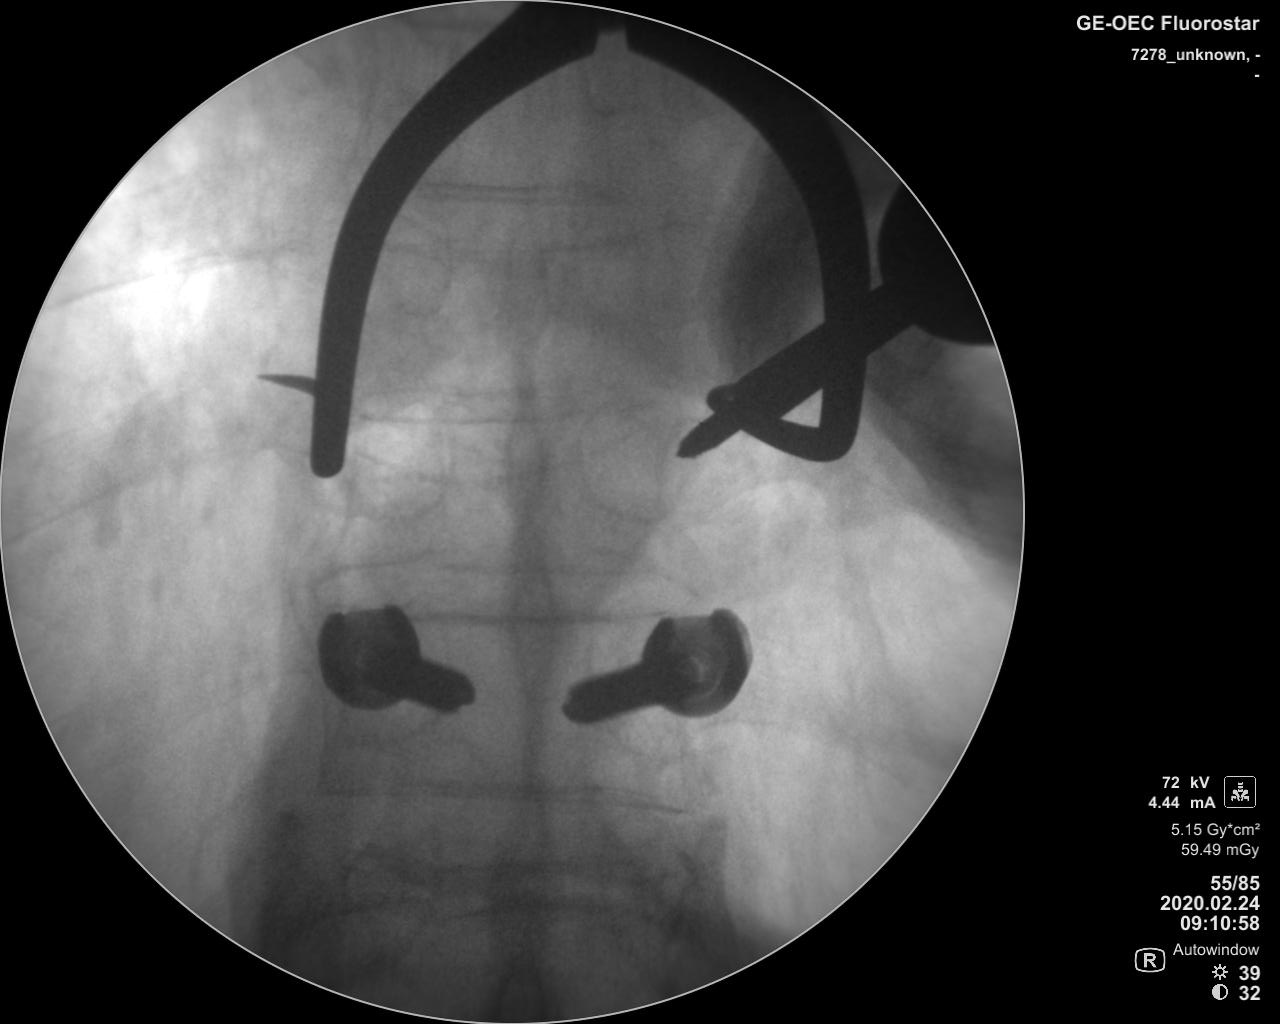eyes: (353, 398, 448, 527), (577, 404, 670, 527), (380, 225, 452, 321)
line: (330, 769, 673, 813), (402, 234, 660, 264), (410, 600, 653, 630), (363, 401, 611, 430), (426, 178, 605, 211), (417, 853, 630, 878), (417, 560, 651, 581)
